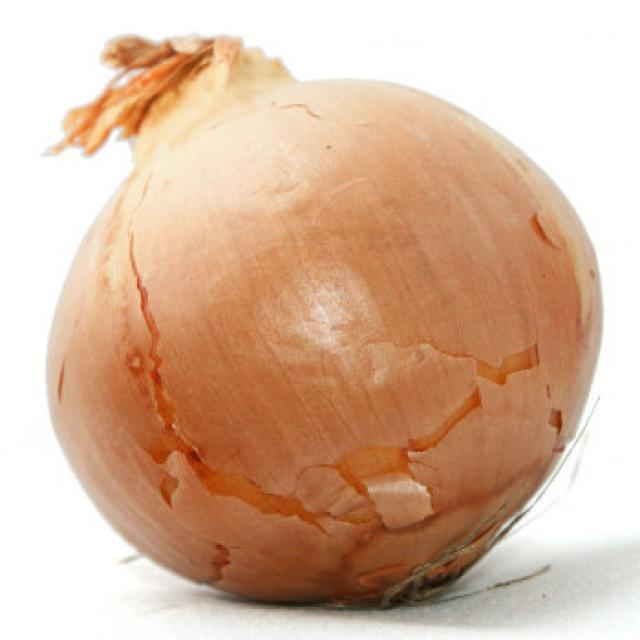onion: (36, 42, 607, 609)
